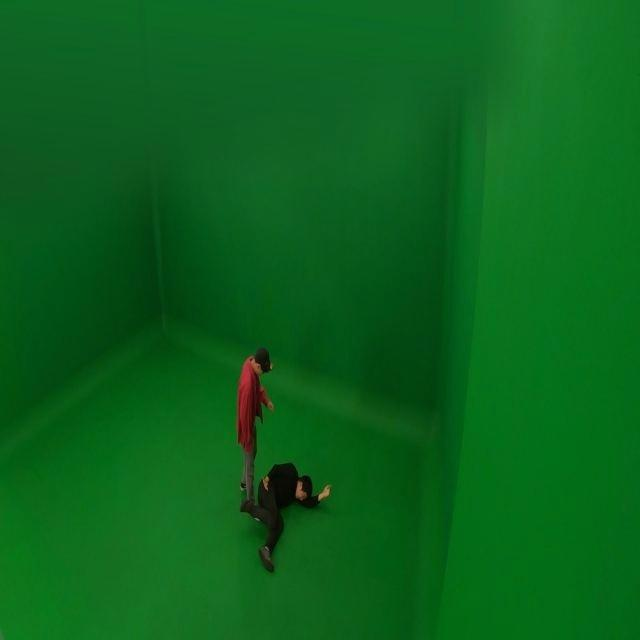fight: (232, 344, 335, 574)
